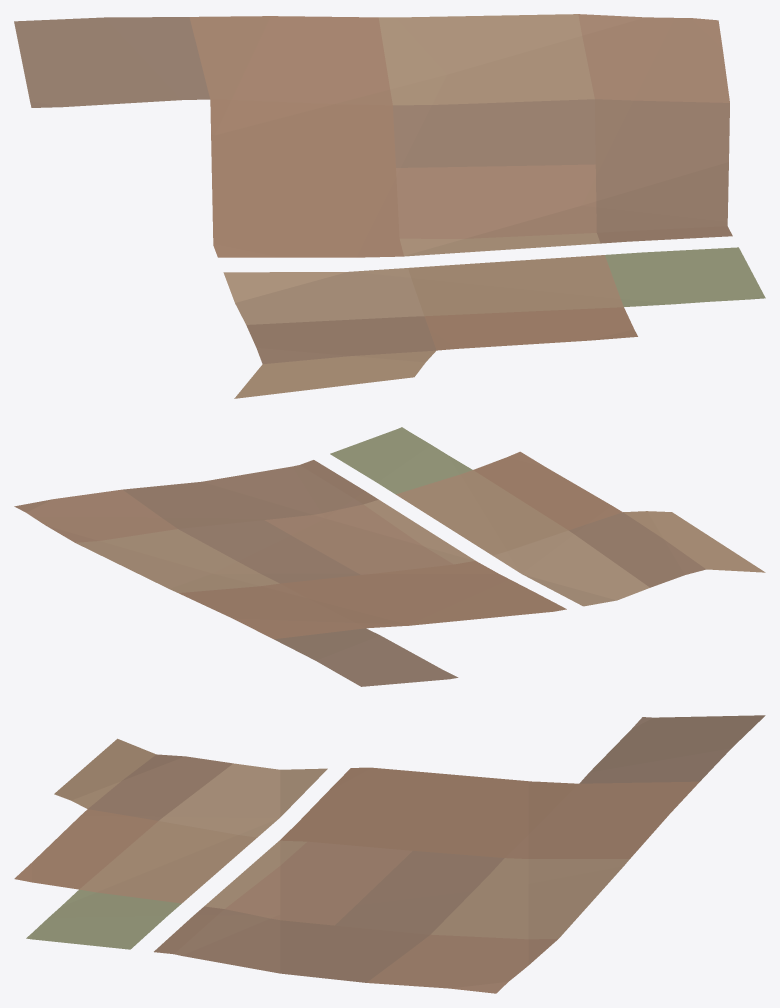
File: farm_-54_-53_soil.glb
3 views of the same model, one above another, from view 1: azimuth 30°, elevation 25°; view 2: azimuth 150°, elevation 25°; view 3: azimuth 270°, elevation 25° (orthographic). The views are drawn at different scales.
Visible parts, largest first — view 1: geometry_0; view 2: geometry_0; view 3: geometry_0.
Boxes of the visible parts, x1=… form: geometry_0: x1=14, y1=14, x2=765, y2=398; geometry_0: x1=14, y1=427, x2=765, y2=686; geometry_0: x1=14, y1=715, x2=765, y2=993.
Size of the model in its own units: 237 by 29.27 by 242.
